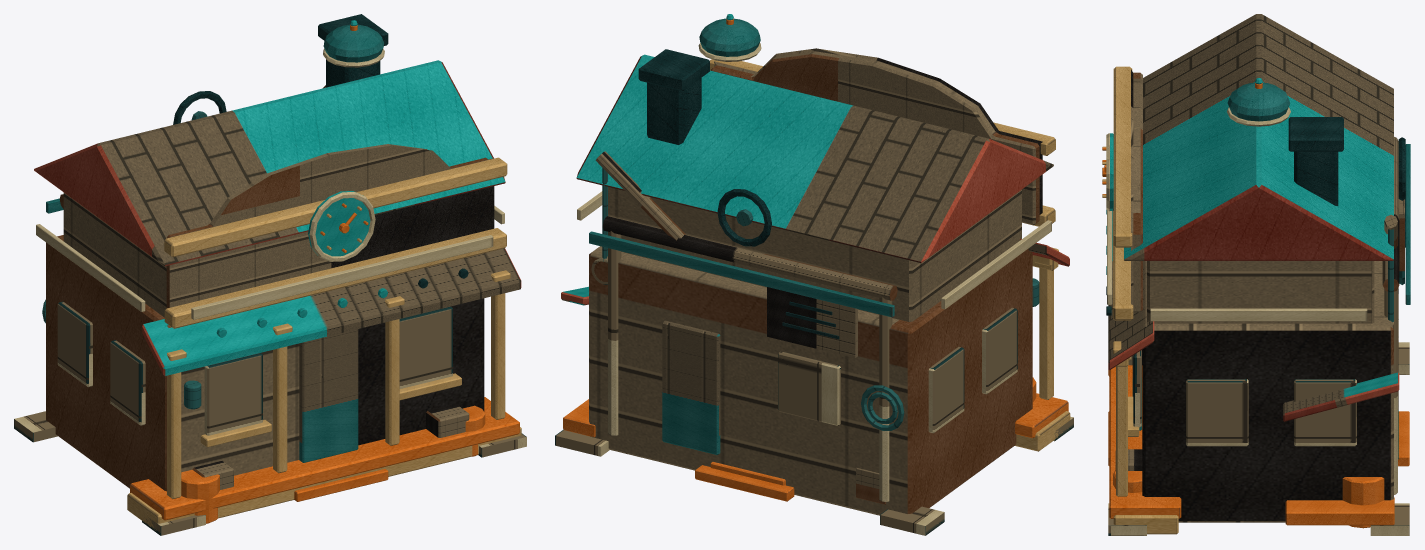
The model's file is general-store.e6.glb.
The picture shows the model from 3 angles, left to right: view 1: azimuth 30°, elevation 25°; view 2: azimuth 150°, elevation 25°; view 3: azimuth 270°, elevation 25°; orthographic projection. The views are drawn at different scales.
Parts seen in each view (by area): view 1: AtomicChandleryE6; view 2: AtomicChandleryE6; view 3: AtomicChandleryE6.
Part boxes in pixels (bbox=[...]): AtomicChandleryE6: bbox=[14, 14, 526, 535]; AtomicChandleryE6: bbox=[555, 14, 1073, 535]; AtomicChandleryE6: bbox=[1102, 14, 1410, 535].
Bounding box in the file's own units: 4.7 × 4.87 × 3.34.
Materials: 1 (1 with a texture image).
